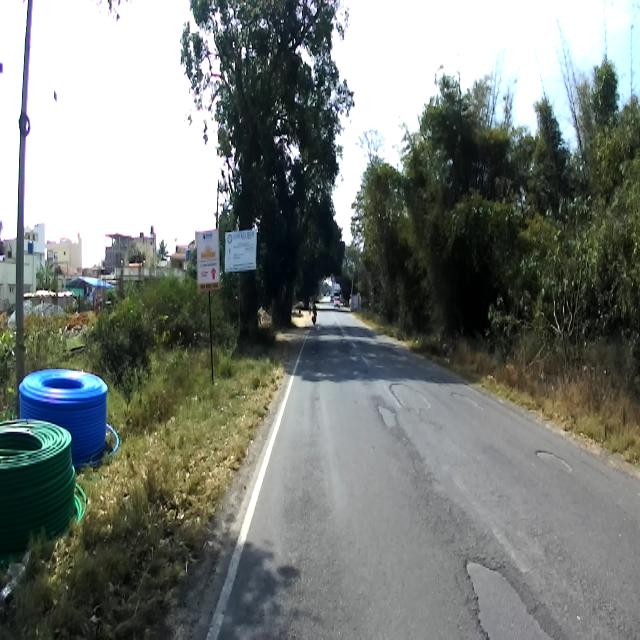sign board ahead at: (192, 230, 225, 293)
